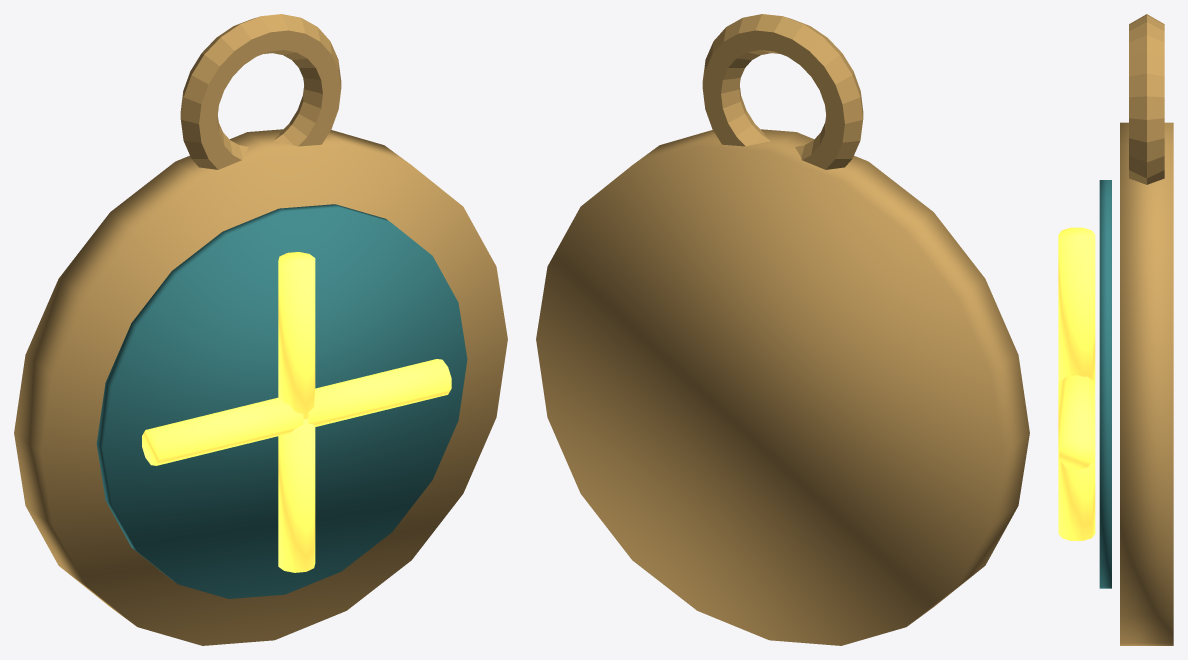
The model's file is relic-diversMedal.glb.
3 renders of one model, left to right at view 1: azimuth 30°, elevation 25°; view 2: azimuth 150°, elevation 25°; view 3: azimuth 270°, elevation 25°, orthographic. The views are drawn at different scales.
Parts seen in each view (by area): view 1: relic-diversMedal / Brass | machined champagne, relic-diversMedal / Paint | North Sea petrol, relic-diversMedal / Lamp | amber; view 2: relic-diversMedal / Brass | machined champagne; view 3: relic-diversMedal / Brass | machined champagne, relic-diversMedal / Lamp | amber, relic-diversMedal / Paint | North Sea petrol.
Part boxes in pixels (left/top/right/bottom): relic-diversMedal / Brass | machined champagne: left=14, top=14, right=507, bottom=645; relic-diversMedal / Paint | North Sea petrol: left=96, top=204, right=467, bottom=598; relic-diversMedal / Lamp | amber: left=142, top=252, right=451, bottom=572; relic-diversMedal / Brass | machined champagne: left=536, top=14, right=1029, bottom=645; relic-diversMedal / Brass | machined champagne: left=1120, top=14, right=1173, bottom=645; relic-diversMedal / Lamp | amber: left=1058, top=227, right=1095, bottom=540; relic-diversMedal / Paint | North Sea petrol: left=1099, top=180, right=1111, bottom=588.
Bounding box in the file's own units: 1.28 × 1.61 × 0.28.
